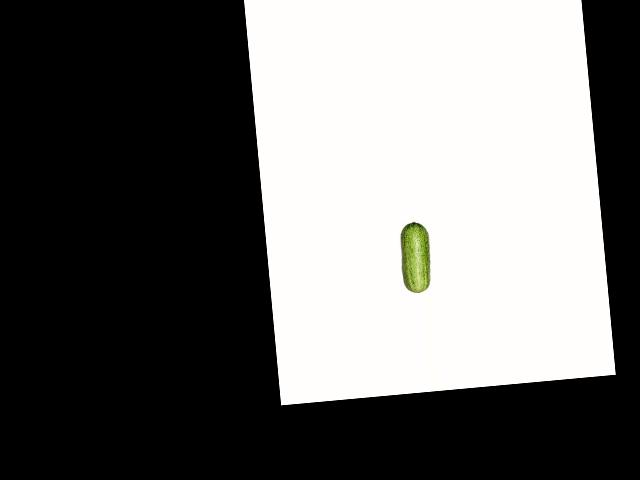cucumber: (398, 220, 433, 293)
